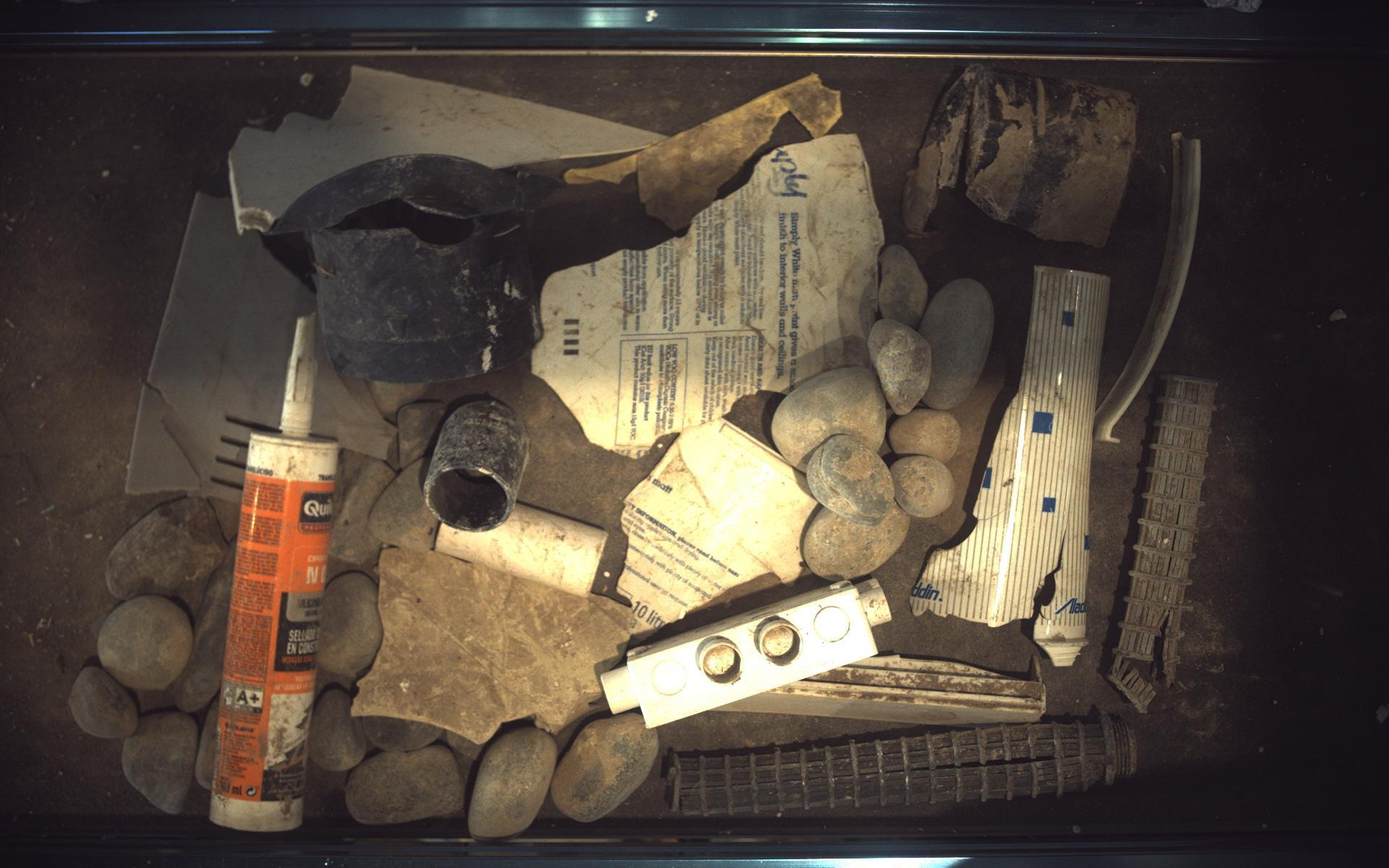pipes: (436, 503, 608, 597), (423, 399, 530, 532)
plastic: (533, 135, 885, 455), (912, 265, 1113, 666), (228, 64, 665, 232), (209, 317, 338, 833), (271, 154, 553, 382), (124, 191, 315, 501), (352, 548, 637, 745), (668, 716, 1139, 818), (564, 73, 843, 229), (602, 580, 893, 729), (618, 419, 818, 634), (905, 64, 1139, 246), (1110, 375, 1220, 713), (1097, 132, 1204, 443), (717, 656, 1048, 726), (313, 346, 395, 459)
stone: (104, 498, 226, 601), (773, 367, 888, 470), (551, 715, 659, 824), (171, 545, 234, 714), (469, 728, 558, 840), (922, 278, 996, 410), (345, 746, 464, 826), (96, 595, 192, 692), (804, 503, 913, 579), (808, 435, 896, 527), (121, 712, 197, 816), (329, 459, 396, 569), (317, 572, 383, 679), (368, 458, 440, 551), (870, 318, 933, 415), (68, 667, 137, 741), (308, 689, 367, 773), (881, 244, 930, 329), (891, 456, 956, 518), (890, 409, 963, 463), (399, 401, 446, 469), (361, 718, 445, 753), (367, 380, 428, 422), (194, 699, 218, 791), (445, 731, 484, 765)
